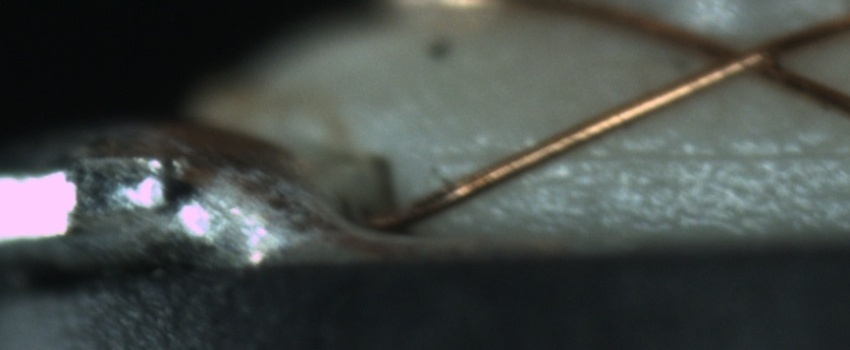CL: (691, 24, 799, 89)
DL: (448, 124, 849, 187)
